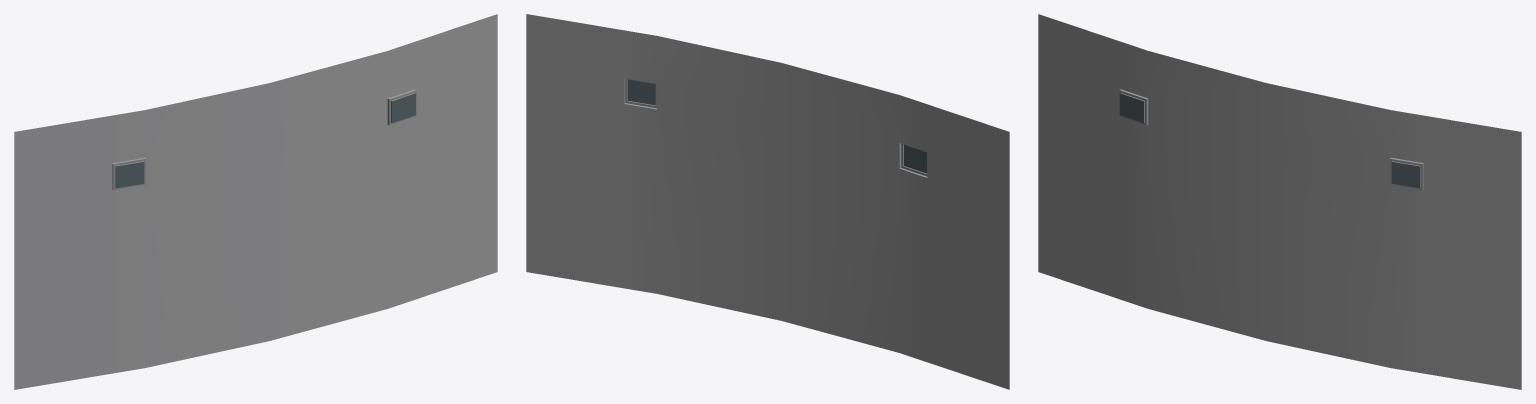
Rendered from MCM_W_001.fbx.
3 views of the same model, side by side, from view 1: azimuth 30°, elevation 25°; view 2: azimuth 150°, elevation 25°; view 3: azimuth 330°, elevation 25° (orthographic).
Visible parts, largest first — view 1: MCM_W_001; view 2: MCM_W_001; view 3: MCM_W_001.
Boxes of the visible parts, left/top/right/bottom form: MCM_W_001: left=14, top=14, right=497, bottom=389; MCM_W_001: left=526, top=14, right=1009, bottom=389; MCM_W_001: left=1038, top=14, right=1521, bottom=389.
Size of the model in its own units: 9.8 by 0.4824 by 5.
Materials: 2 (2 with a texture image).
